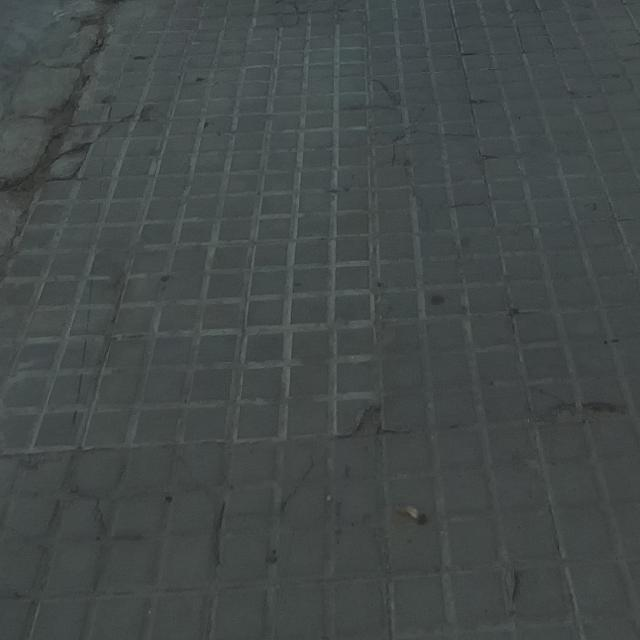calcada_quebrada: (47, 107, 133, 181)
